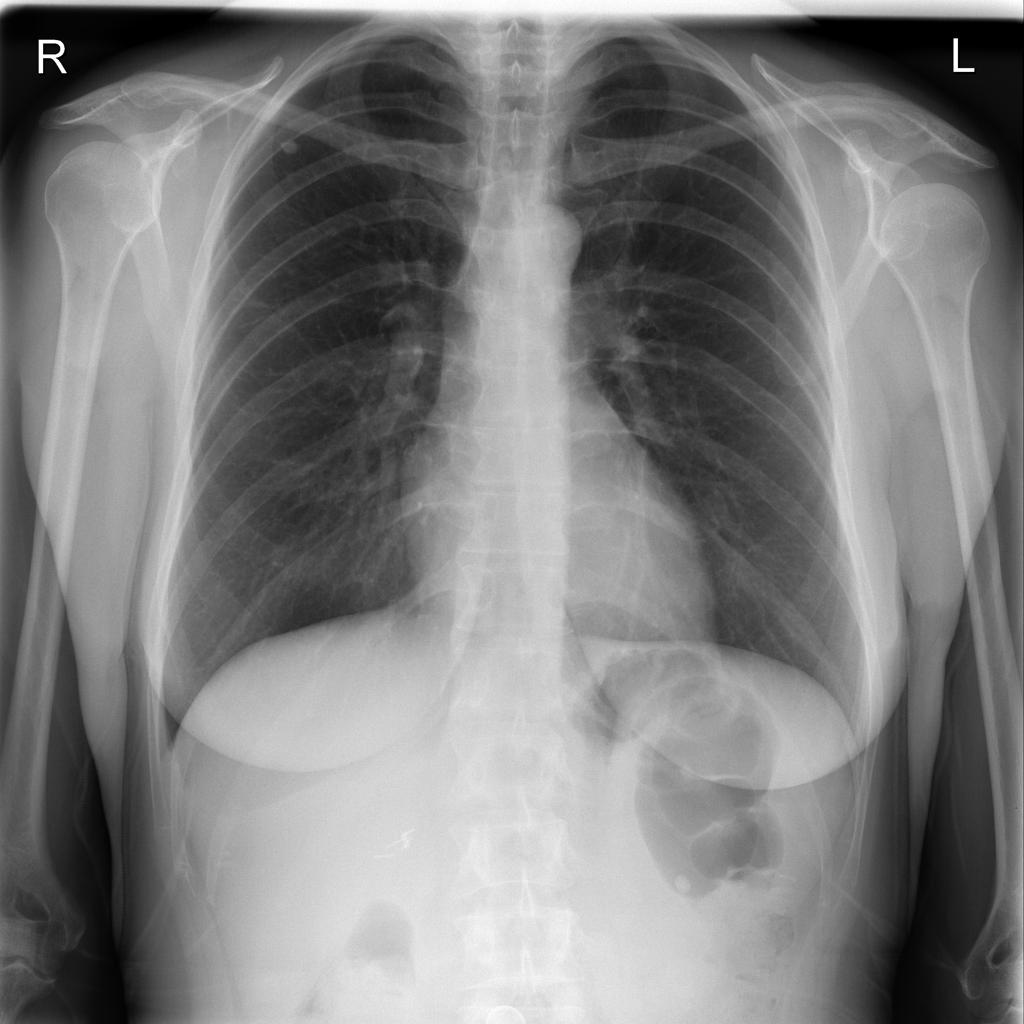nodule: (270, 127, 311, 161)
